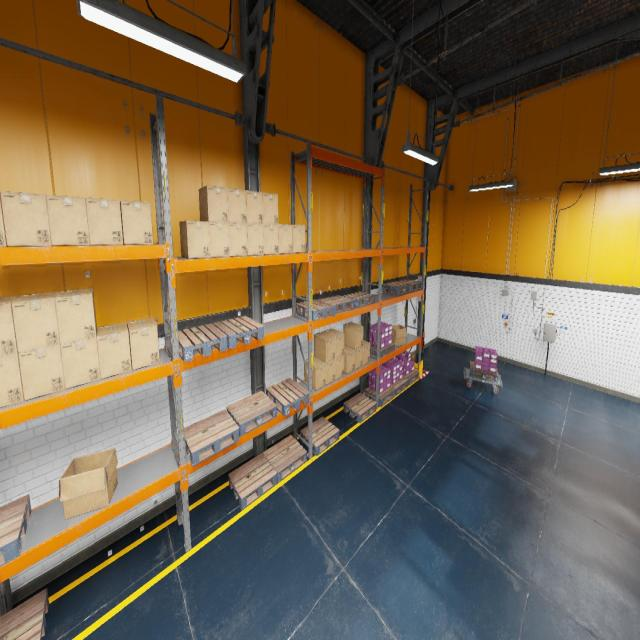box: (59, 448, 118, 519), (11, 292, 60, 352), (0, 191, 52, 246), (18, 344, 65, 401), (55, 288, 97, 344), (46, 194, 90, 246), (61, 334, 100, 388), (96, 322, 132, 379), (86, 197, 123, 245), (126, 318, 160, 370), (120, 200, 153, 244), (0, 352, 24, 408), (0, 295, 20, 356), (179, 220, 210, 258), (199, 185, 228, 222), (208, 222, 230, 257), (304, 356, 326, 390), (314, 331, 335, 362), (228, 188, 246, 223), (324, 328, 344, 358), (229, 223, 247, 256), (246, 223, 264, 255), (246, 190, 263, 223), (343, 322, 363, 349), (263, 224, 279, 254), (263, 193, 278, 224), (345, 345, 363, 369), (278, 224, 292, 254), (0, 192, 7, 246), (292, 225, 305, 252), (344, 345, 355, 373), (392, 325, 406, 346), (335, 354, 344, 380), (326, 359, 335, 385), (363, 340, 370, 365)
pallets: (184, 409, 239, 466), (228, 453, 277, 510), (0, 588, 49, 640), (226, 391, 277, 436), (0, 495, 31, 566), (263, 435, 306, 482), (178, 324, 227, 362), (266, 377, 309, 416), (213, 316, 264, 348), (300, 416, 340, 456), (343, 393, 377, 422), (296, 299, 335, 321), (317, 295, 355, 314), (469, 361, 499, 382), (365, 386, 395, 406), (343, 292, 375, 308), (369, 342, 395, 357), (382, 282, 411, 294), (390, 377, 408, 395), (396, 279, 422, 291), (402, 370, 419, 386)
